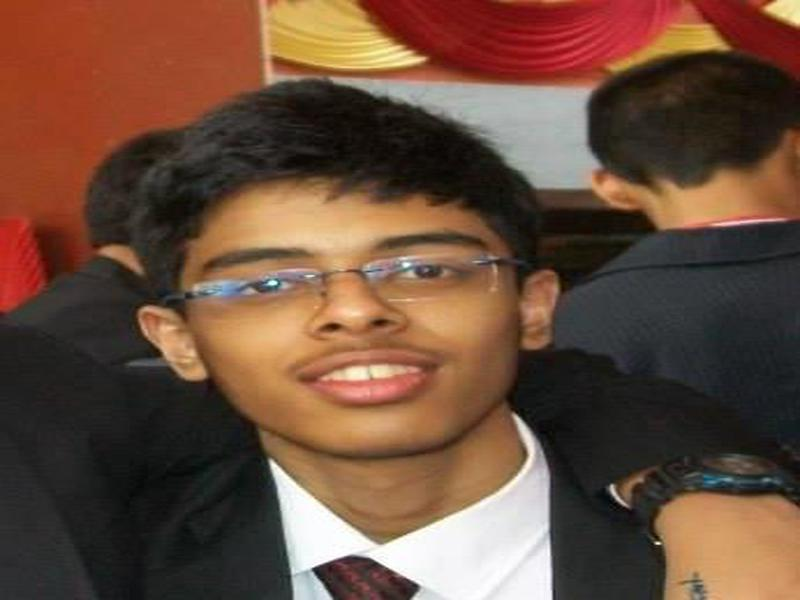without_mask: (182, 180, 510, 463)
